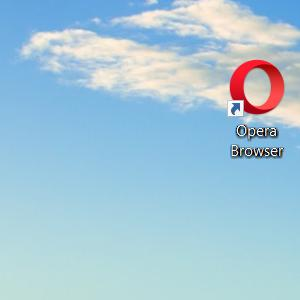opera: (227, 59, 284, 117)
